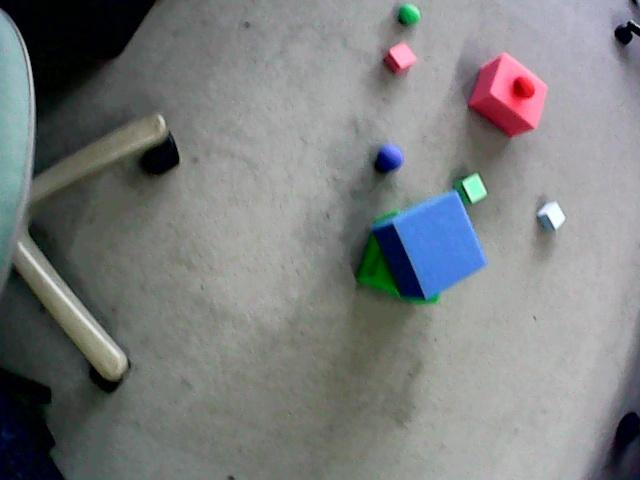blue_block: (372, 190, 486, 297), (537, 201, 565, 230), (538, 215, 554, 230)
red_block: (469, 53, 546, 136), (384, 43, 416, 73)
